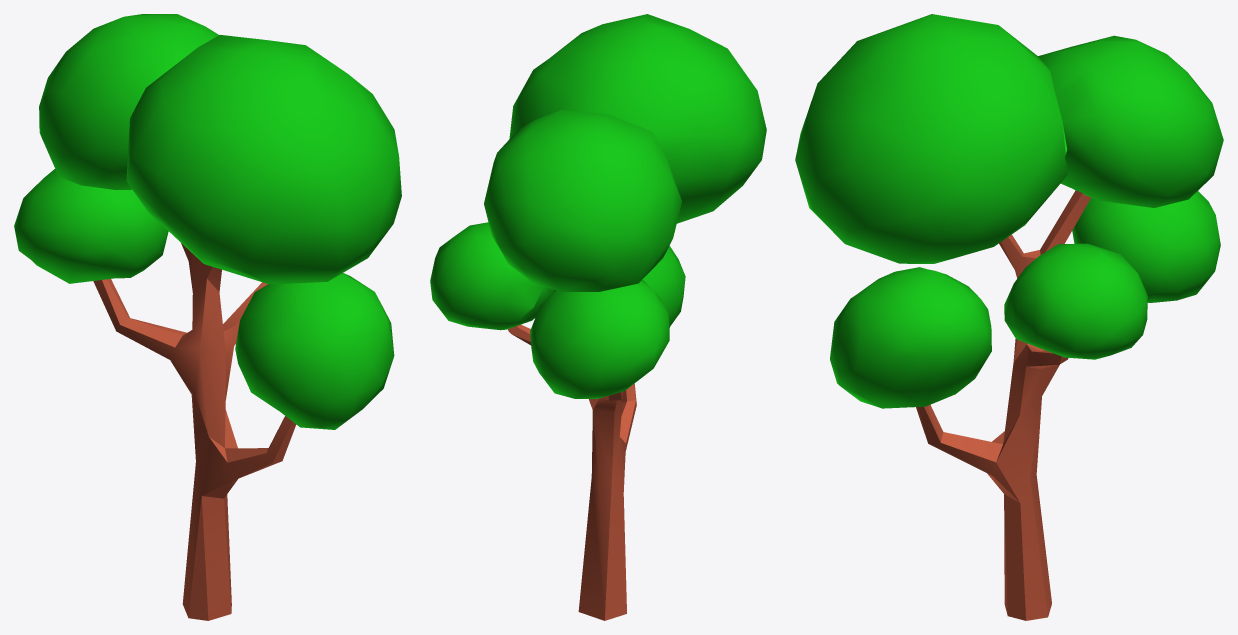
File: tree_B_03.fbx
The picture shows the model from 3 angles, left to right: view 1: azimuth 30°, elevation 25°; view 2: azimuth 150°, elevation 25°; view 3: azimuth 270°, elevation 25°; orthographic projection. The views are drawn at different scales.
Parts seen in each view (by area): view 1: tree_B_03; view 2: tree_B_03; view 3: tree_B_03.
Part boxes in pixels (x1,y1,x2,y2): tree_B_03: (14, 14, 401, 620); tree_B_03: (430, 14, 766, 620); tree_B_03: (795, 14, 1223, 620).
Bounding box in the file's own units: 130 × 269 × 178.
